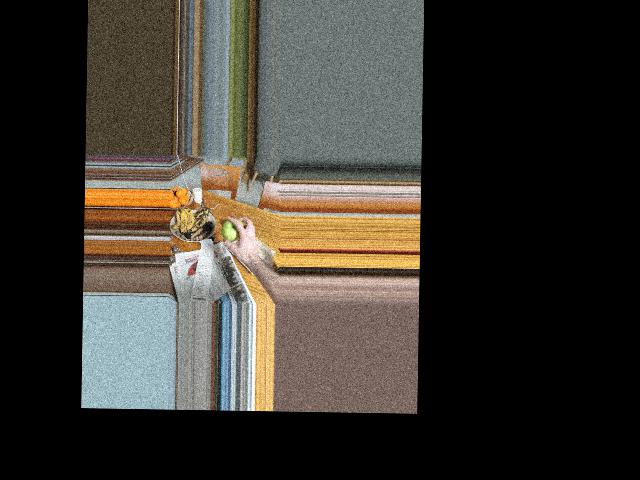apple: (223, 220, 241, 241)
